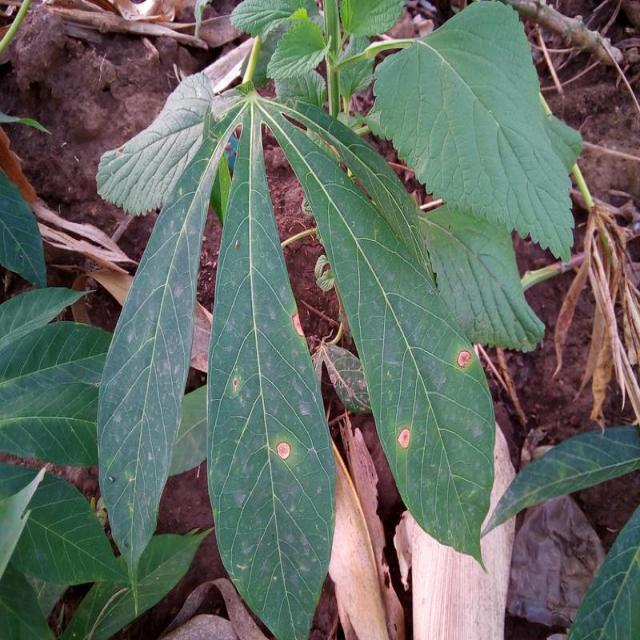cassava leaf: (260, 93, 498, 573), (96, 91, 247, 609), (205, 96, 338, 638), (367, 0, 581, 265)
